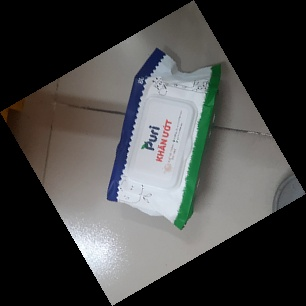Puri Trang: (106, 48, 221, 229)
